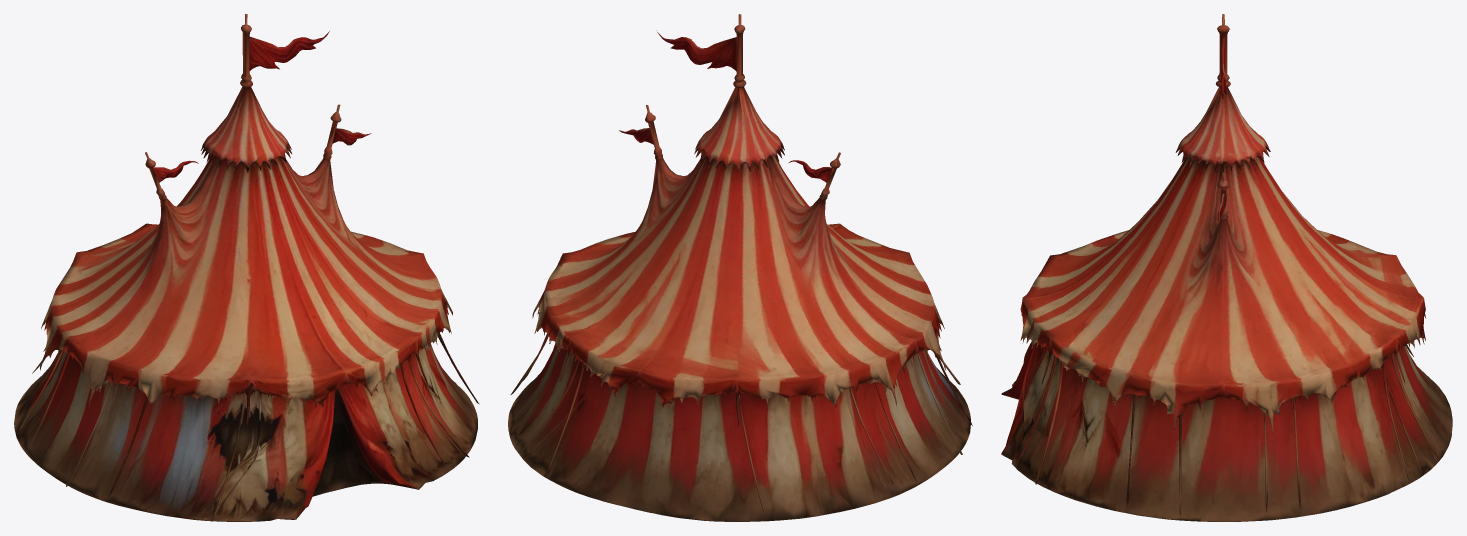
The model's file is tent.glb.
3 renders of one model, left to right at view 1: azimuth 30°, elevation 25°; view 2: azimuth 150°, elevation 25°; view 3: azimuth 270°, elevation 25°, orthographic.
Parts seen in each view (by area): view 1: material; view 2: material; view 3: material.
Boxes of the visible parts, x1,y1,x2,y2 form: material: (14, 14, 479, 521); material: (508, 14, 972, 521); material: (1001, 14, 1452, 521).
Bounding box in the file's own units: 0.8452 × 0.827 × 0.8231.
Materials: 1 (1 with a texture image).
